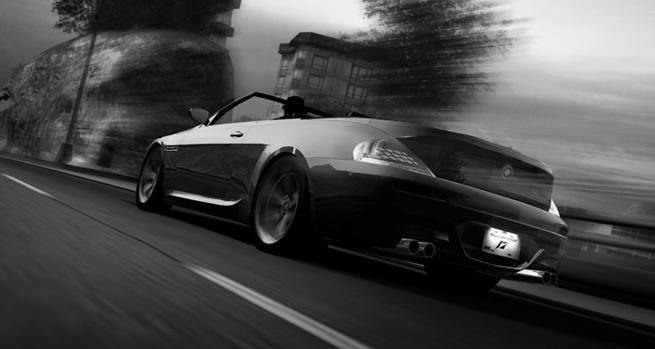car: (135, 92, 569, 302)
